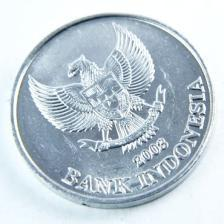coin_200_e2003: (7, 11, 216, 209)
